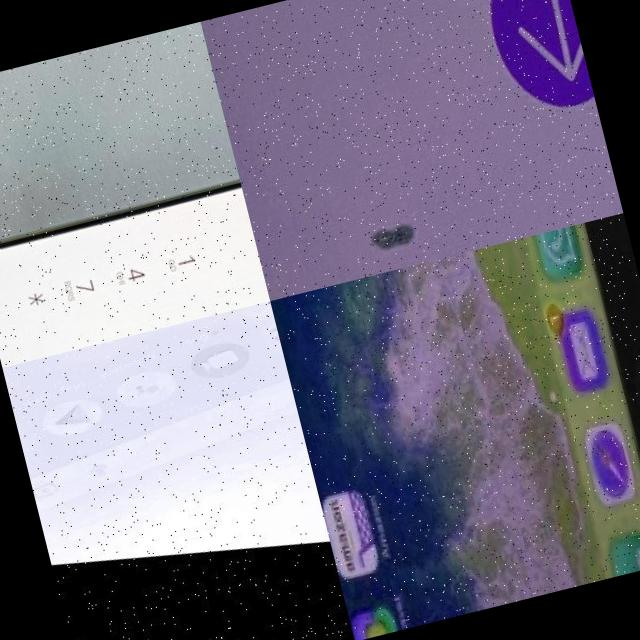dead pixel: (320, 134, 466, 280)
